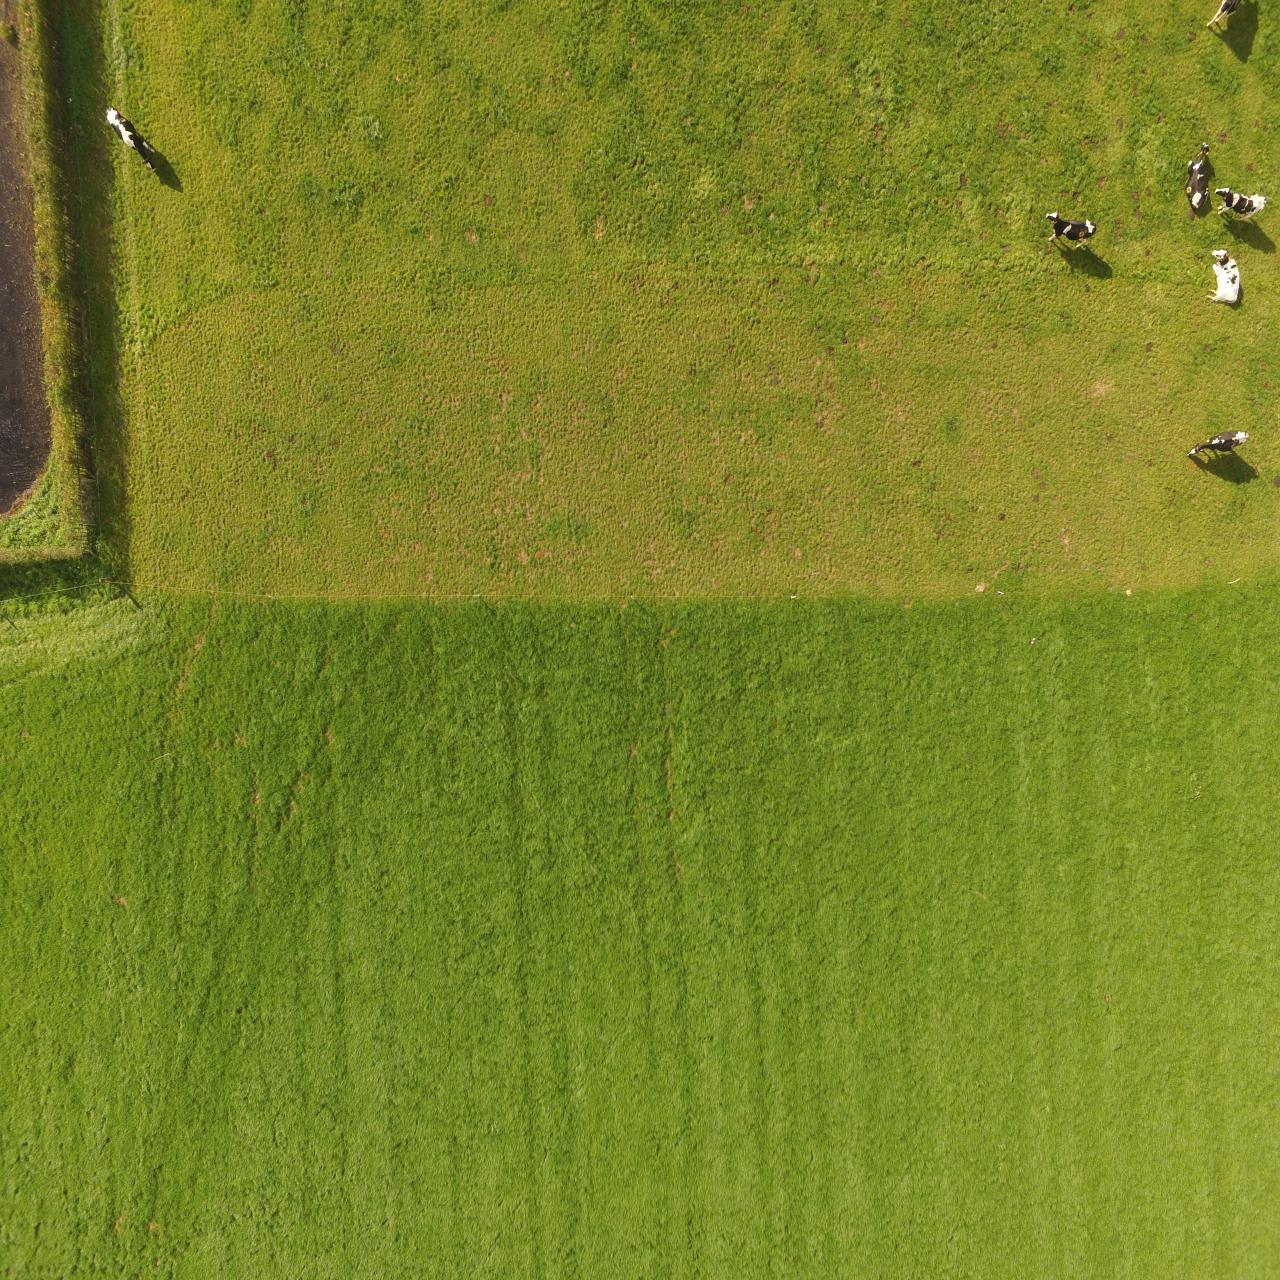cow: (1043, 209, 1098, 250), (1213, 184, 1267, 225), (1206, 247, 1242, 306), (1186, 428, 1250, 459), (1186, 138, 1210, 212)
